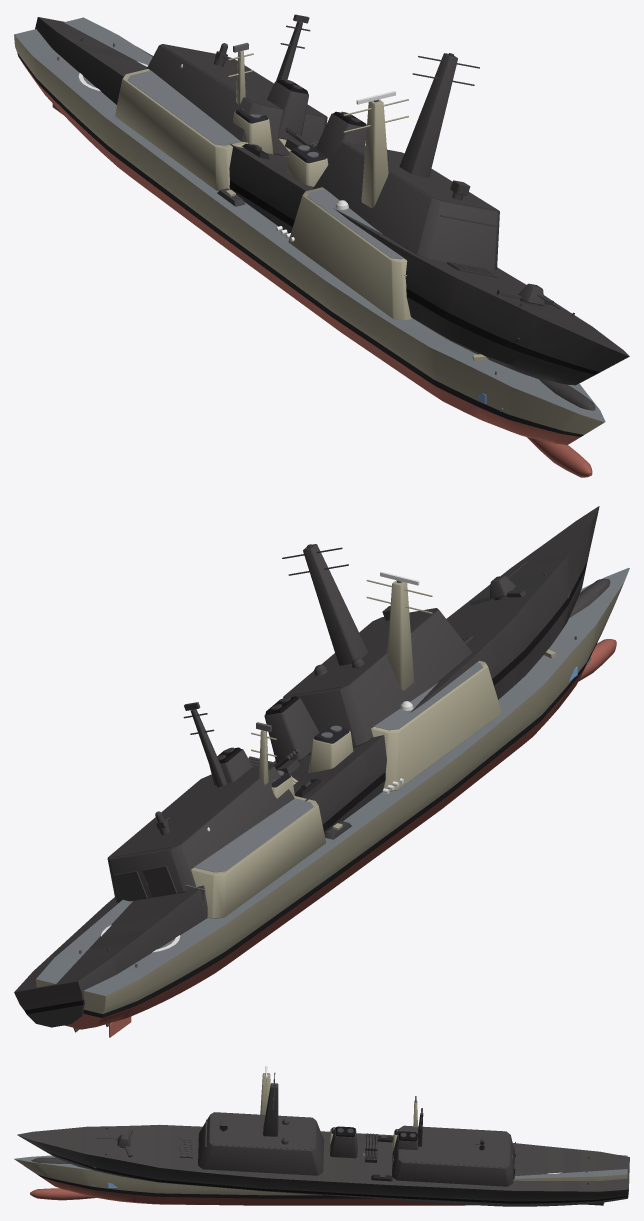
File: destroyer__chungmugong_yi_sun_sin_class.glb
3 views of the same model, one above another, from view 1: azimuth 30°, elevation 25°; view 2: azimuth 150°, elevation 25°; view 3: azimuth 270°, elevation 25° (orthographic). The views are drawn at different scales.
Parts seen in each view (by area): view 1: Hull_Mesh, Wreck; view 2: Wreck, Hull_Mesh; view 3: Wreck, Hull_Mesh.
Part boxes in pixels (<box>): Hull_Mesh: <box>14,17,605,477</box>; Wreck: <box>35,14,629,410</box>; Wreck: <box>14,506,610,1032</box>; Hull_Mesh: <box>36,568,629,1037</box>; Wreck: <box>17,1072,629,1206</box>; Hull_Mesh: <box>14,1073,627,1205</box>.
Size of what is drawn, in the model's own units: 26.58 by 39.86 by 157.
